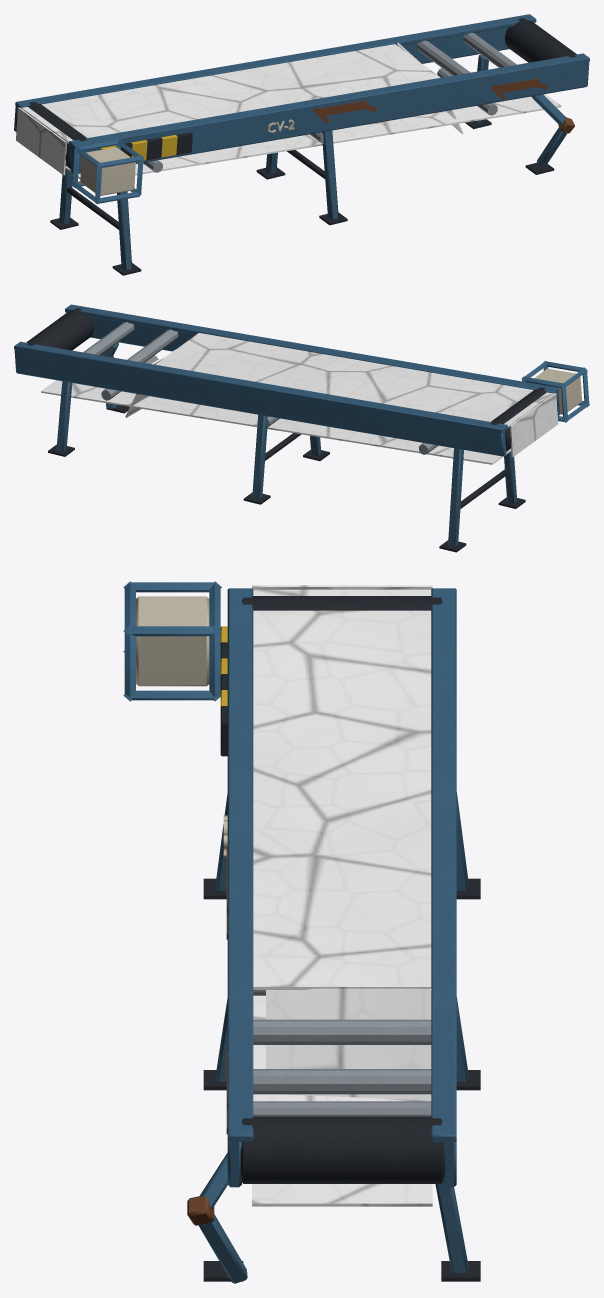
The model's file is conveyor_section.glb.
3 renders of one model, top to bottom at view 1: azimuth 30°, elevation 25°; view 2: azimuth 150°, elevation 25°; view 3: azimuth 270°, elevation 25°, orthographic. The views are drawn at different scales.
Parts seen in each view (by area): view 1: conveyor_section; view 2: conveyor_section; view 3: conveyor_section.
Boxes of the visible parts, <box> form: conveyor_section: <box>14,14,589,275</box>; conveyor_section: <box>14,304,589,552</box>; conveyor_section: <box>123,581,480,1283</box>.
Bounding box in the file's own units: 4.06 × 1.04 × 1.26.
9 materials, 9 textured.
